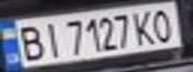1: (81, 15, 103, 53)
2: (97, 12, 118, 52)
7: (60, 17, 84, 56), (112, 11, 133, 48)
B: (12, 23, 48, 62)
I: (36, 20, 63, 58)
K: (130, 7, 160, 46)
O: (148, 7, 178, 43)
